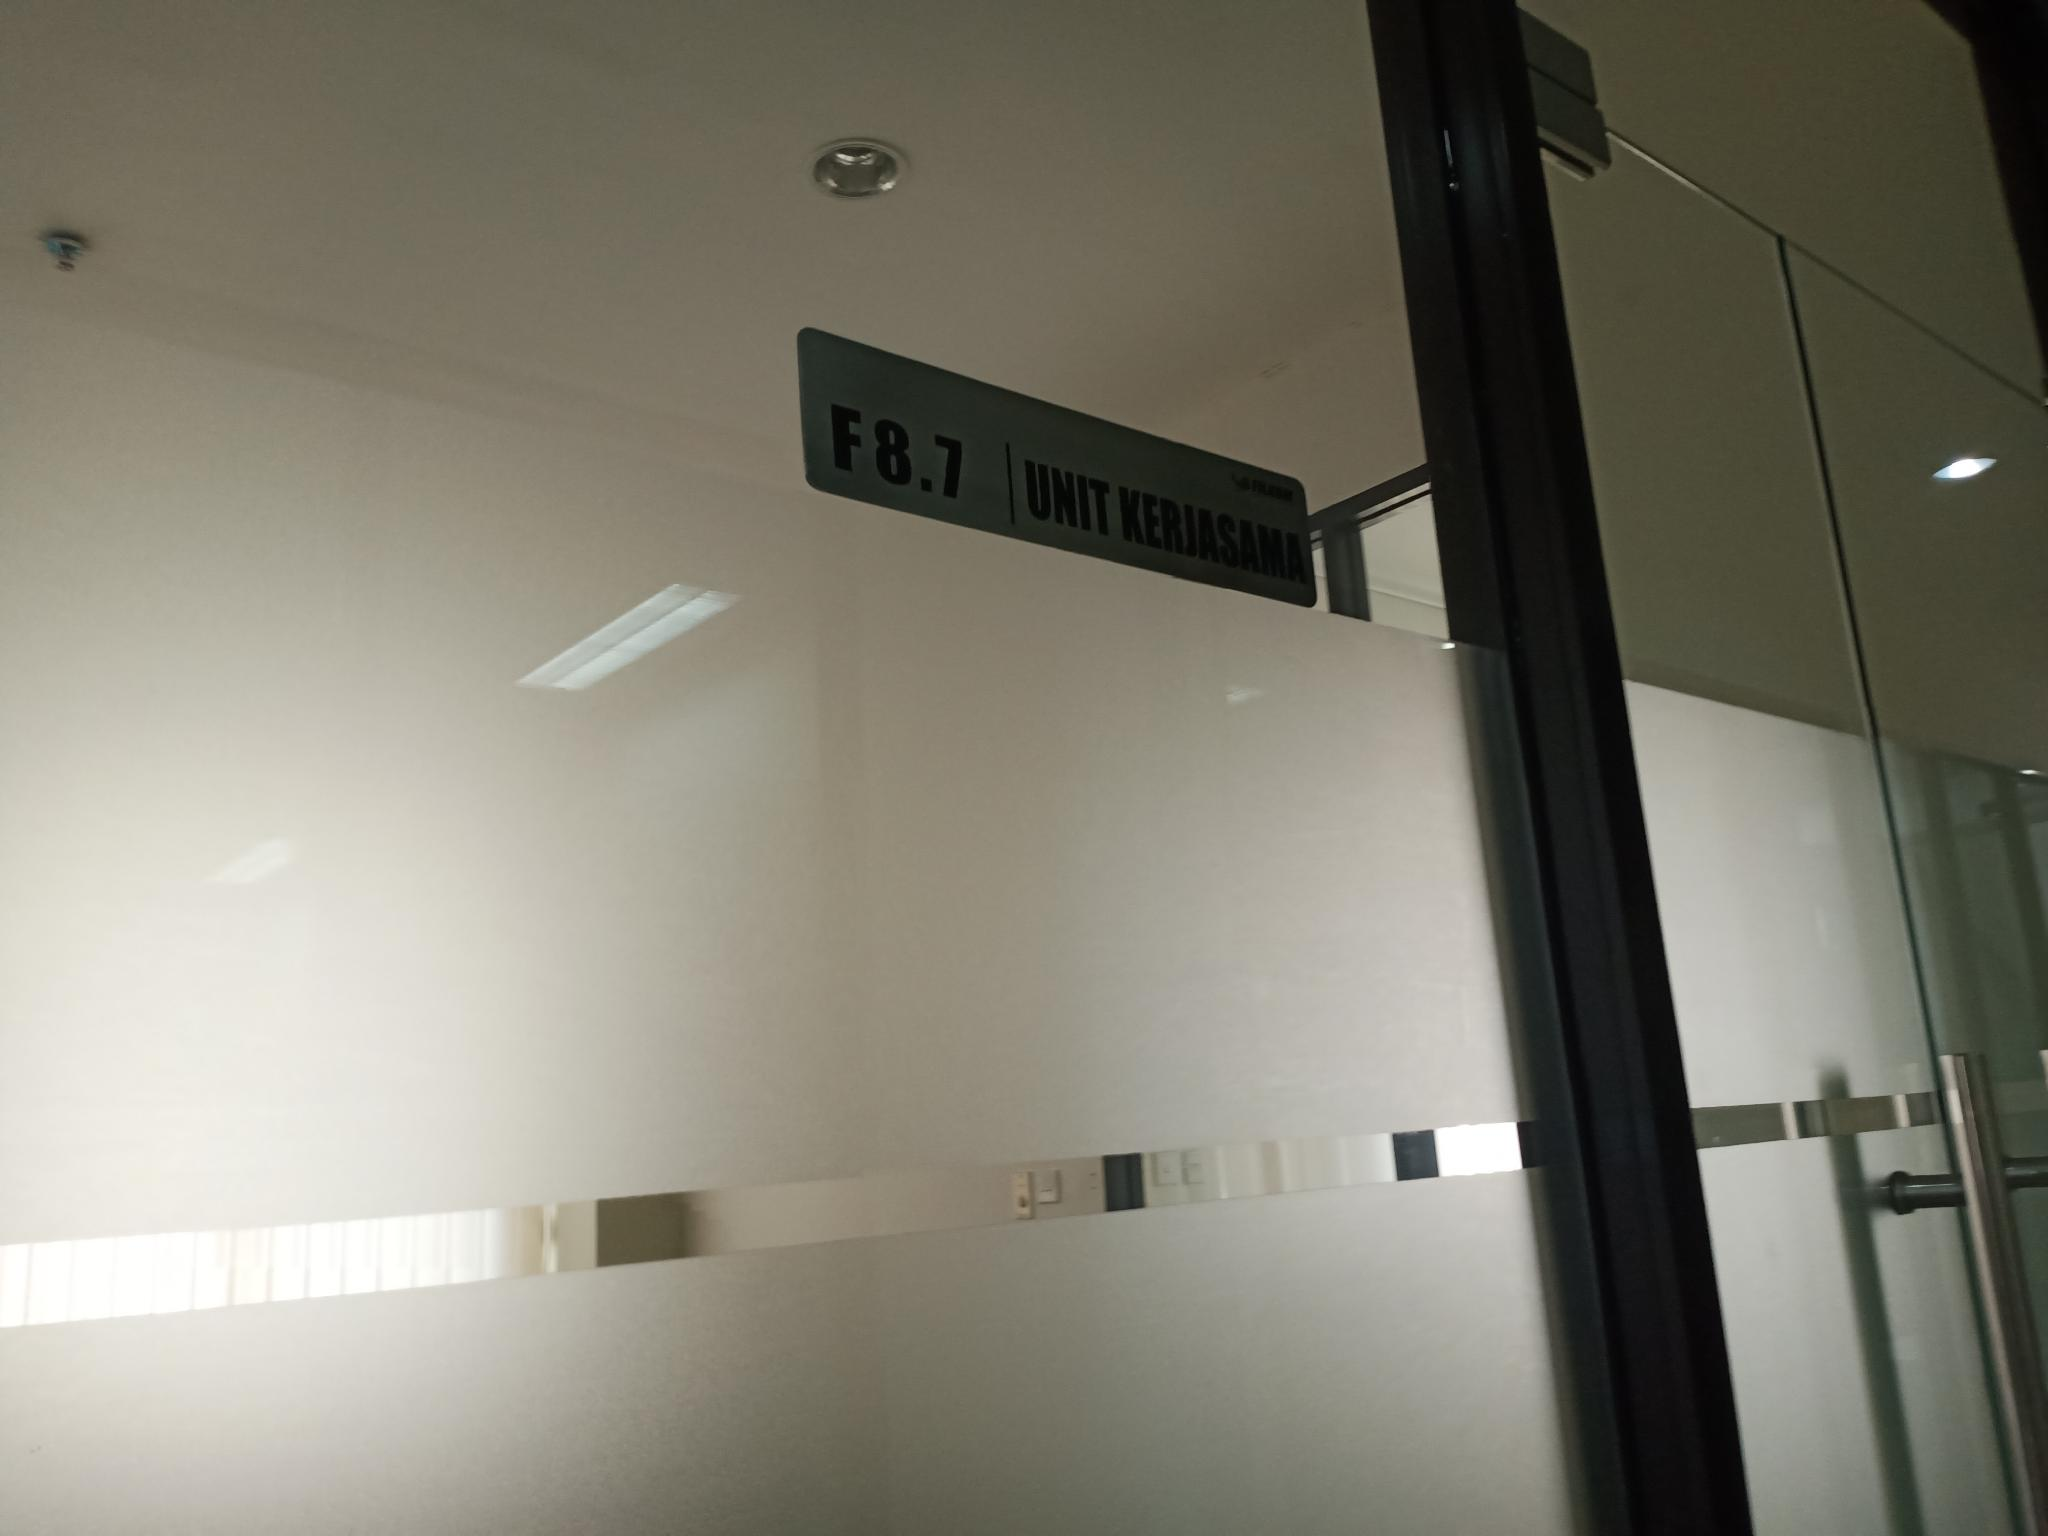plate: (798, 319, 1322, 610)
